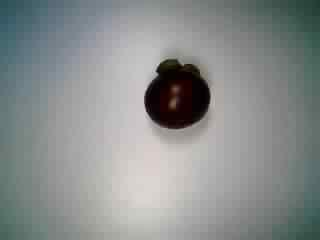mangosteen: (139, 58, 216, 133)
